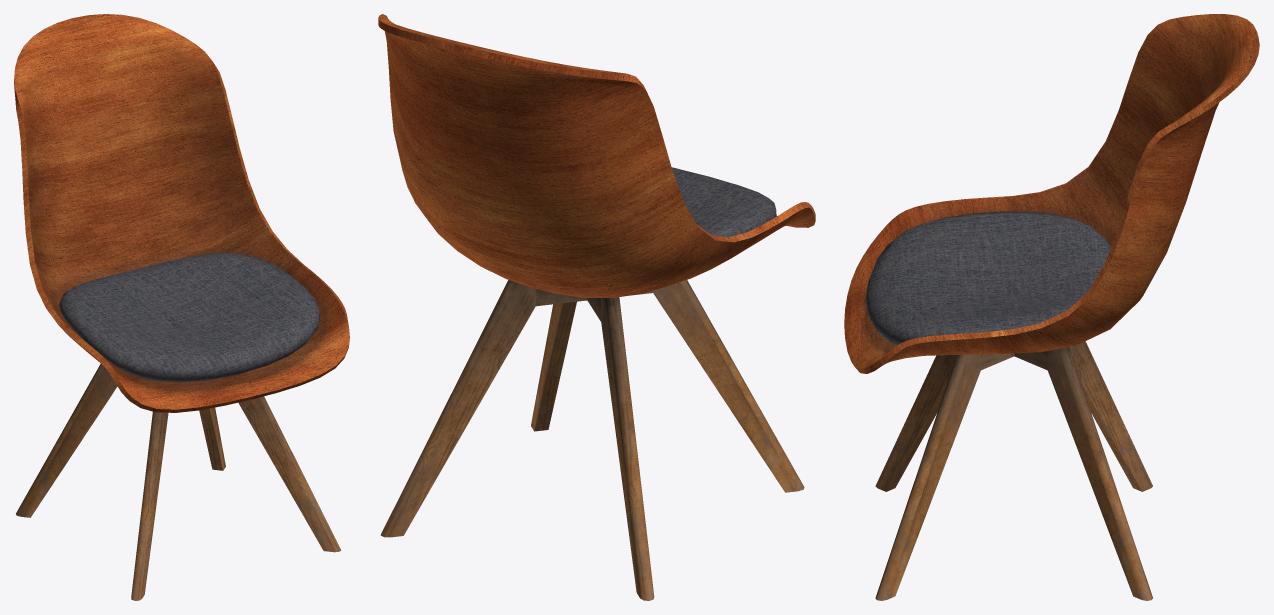
The model's file is chair_djdf.glb.
The picture shows the model from 3 angles, left to right: view 1: azimuth 30°, elevation 25°; view 2: azimuth 150°, elevation 25°; view 3: azimuth 270°, elevation 25°; orthographic projection. The views are drawn at different scales.
Visible parts, largest first — view 1: Chair; view 2: Chair; view 3: Chair.
Part boxes in pixels (bbox=[...]): Chair: bbox=[14, 14, 349, 600]; Chair: bbox=[378, 14, 815, 600]; Chair: bbox=[844, 14, 1259, 600].
Bounding box in the file's own units: 0.5078 × 0.8574 × 0.6425.
1 material, 1 textured.
